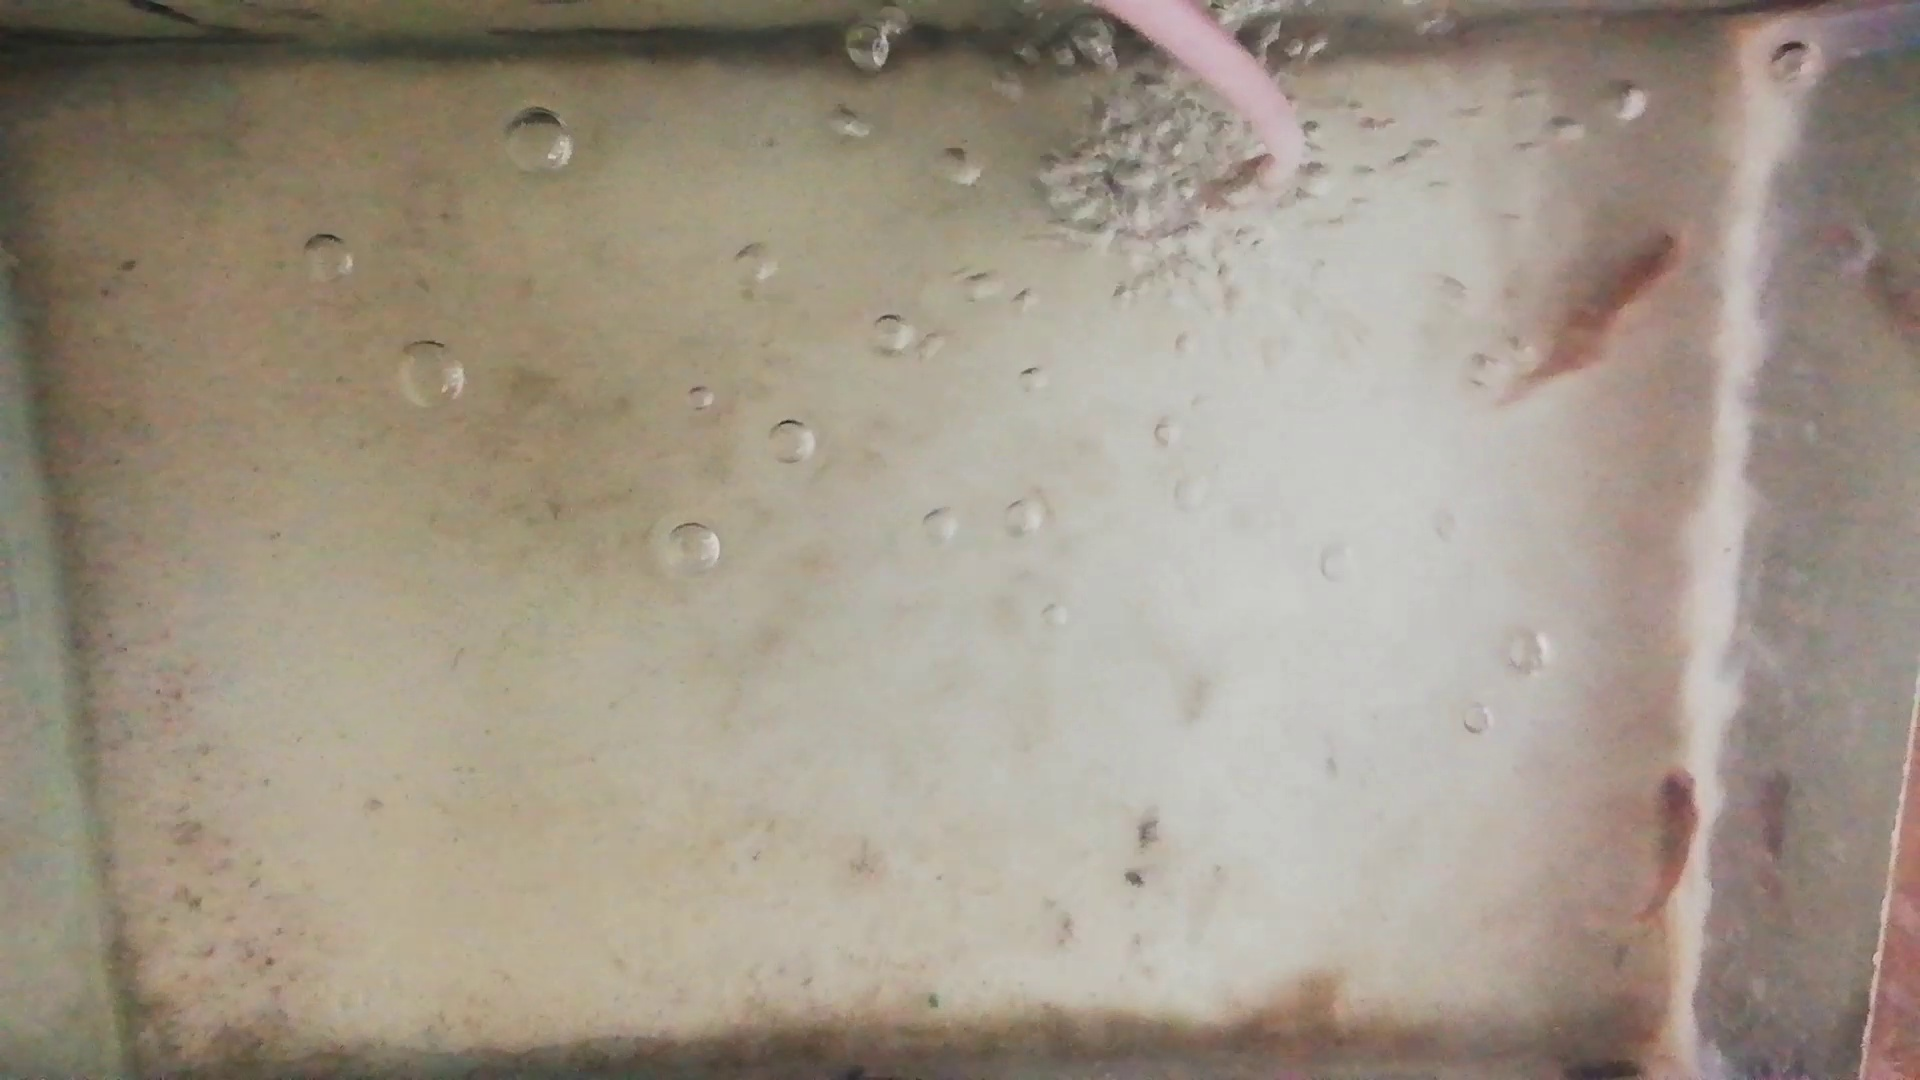fish: (1502, 223, 1687, 394), (1644, 769, 1702, 928)
